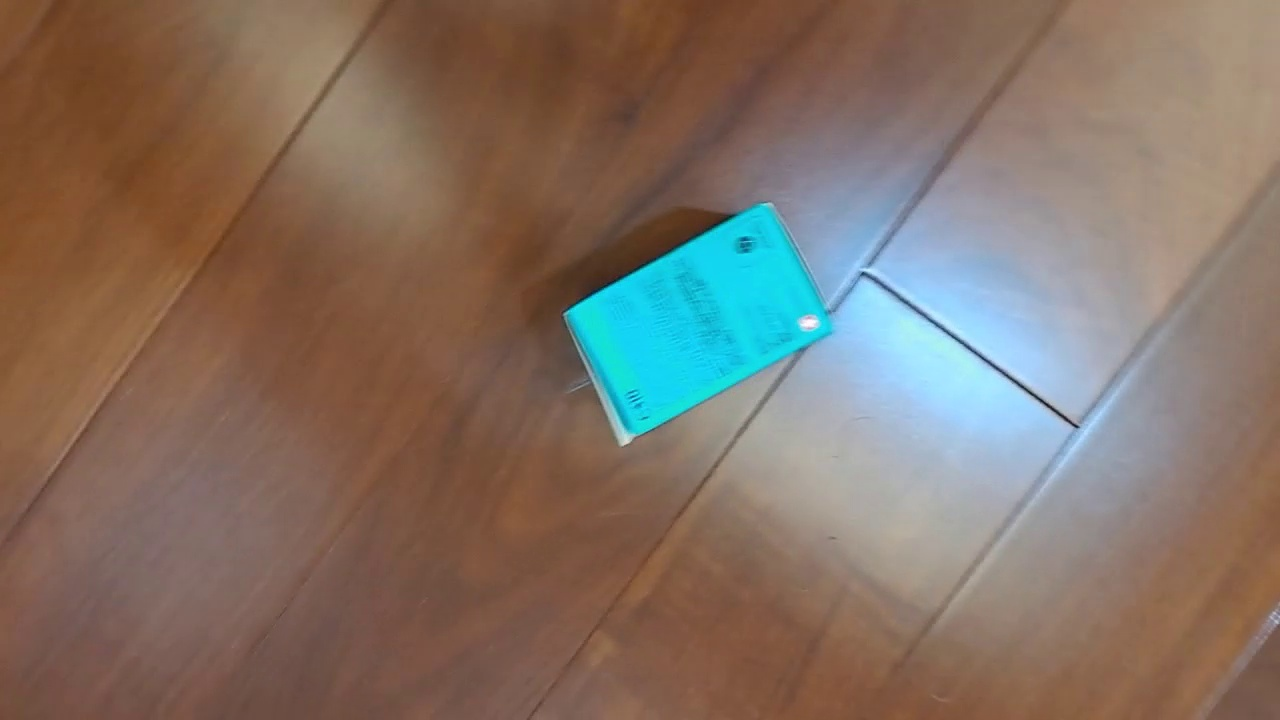webcam: (561, 200, 838, 449)
